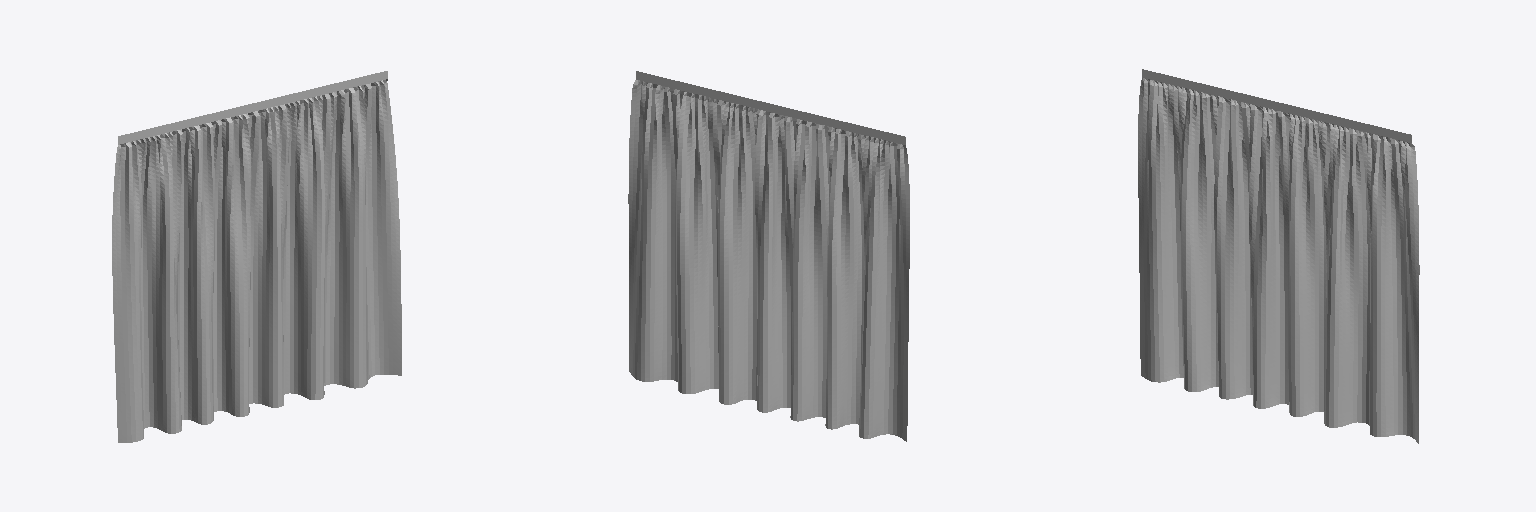
The model's file is CORTINA_IZQUIERDA.obj.
3 views of the same model, side by side, from view 1: azimuth 30°, elevation 25°; view 2: azimuth 150°, elevation 25°; view 3: azimuth 330°, elevation 25° (orthographic).
Parts seen in each view (by area): view 1: Сurtain.001; view 2: Сurtain.001; view 3: Сurtain.001.
Boxes of the visible parts, x1,y1,x2,y2 form: Сurtain.001: [112, 71, 401, 442]; Сurtain.001: [628, 71, 909, 441]; Сurtain.001: [1138, 69, 1419, 443].
Size of the model in its own units: 1.79 by 1.83 by 0.1597.